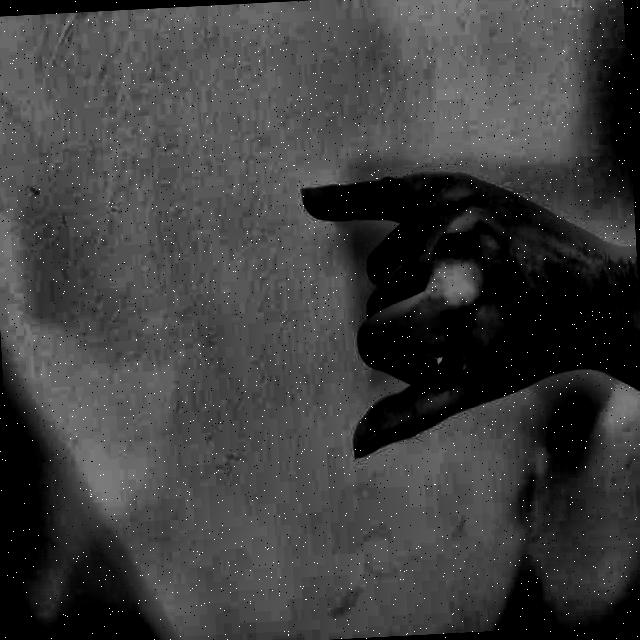Oi: (274, 107, 608, 517)
